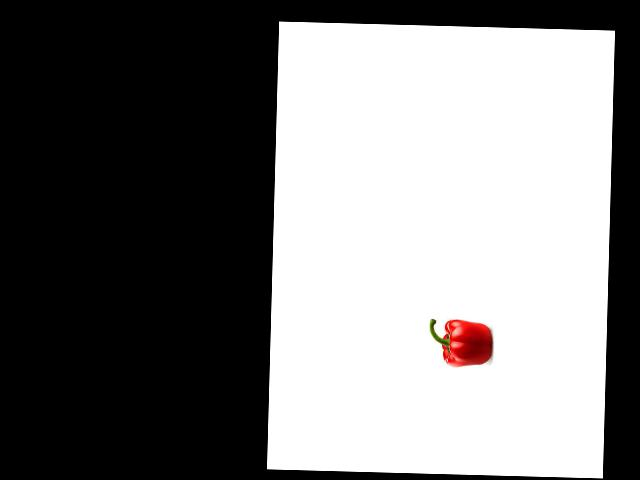bell_pepper: (427, 317, 493, 366)
